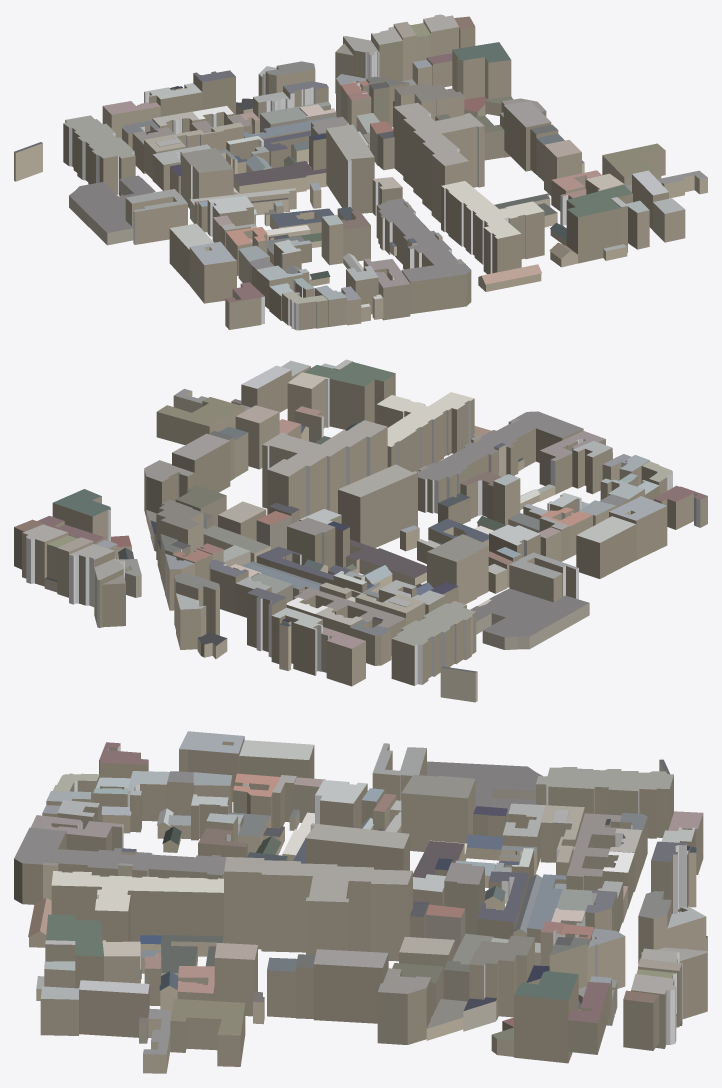
The picture shows the model from 3 angles, top to bottom: view 1: azimuth 30°, elevation 25°; view 2: azimuth 150°, elevation 25°; view 3: azimuth 270°, elevation 25°; orthographic projection. The views are drawn at different scales.
Parts seen in each view (by area): view 1: tuile; view 2: tuile; view 3: tuile.
Boxes of the visible parts, box(x1,y1,x2,y2) form: tuile: box(14, 14, 707, 330); tuile: box(14, 359, 707, 702); tuile: box(14, 731, 707, 1073).
Size of the model in its own units: 277 by 43.42 by 264.
